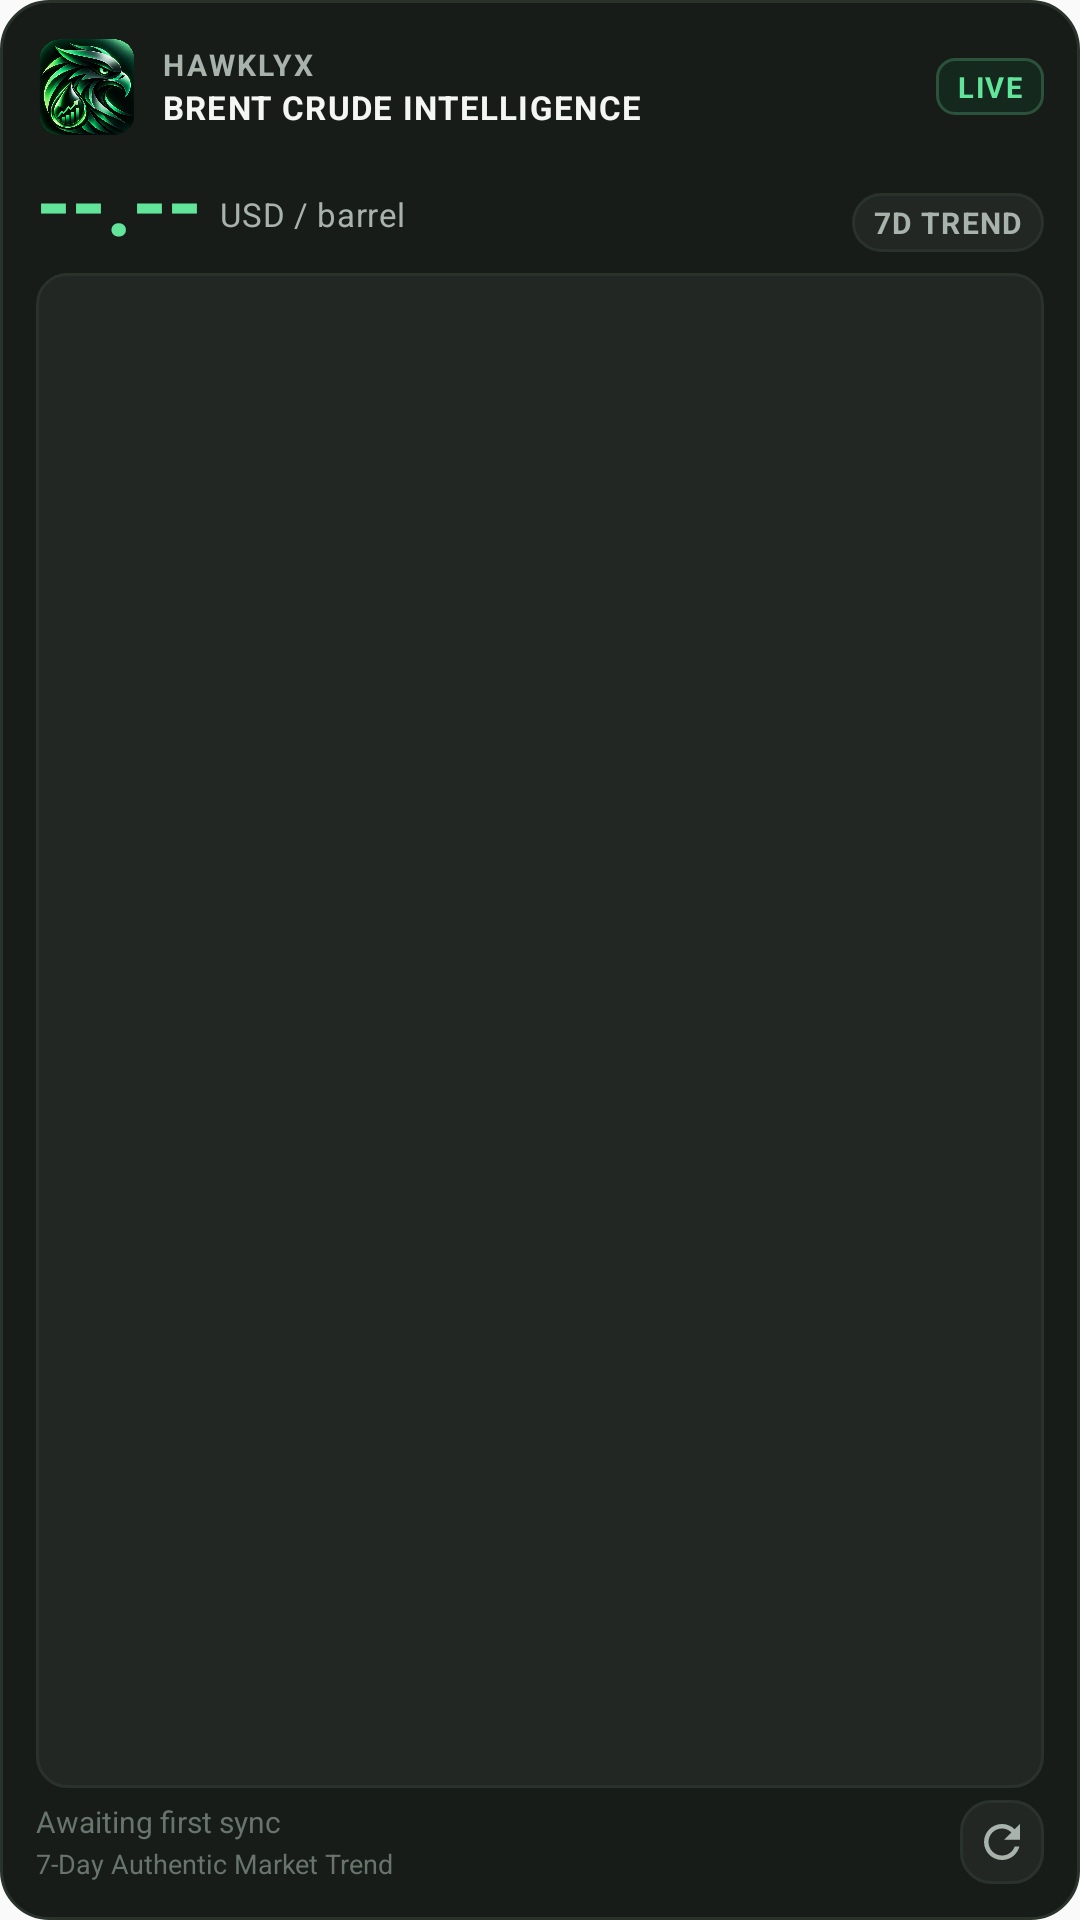

Icons on this 1080*1920 Android screen, each with the point to tap as point (x, y):
Tap to refresh: point (1002, 1842)
